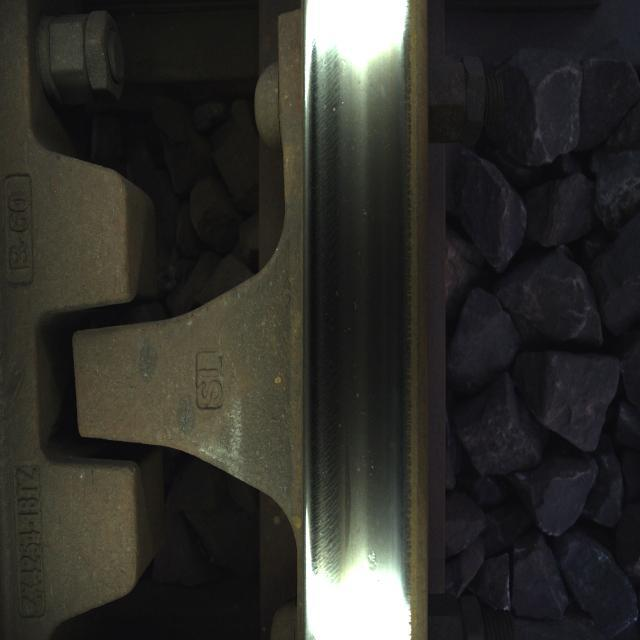normal: (314, 23, 395, 595)
